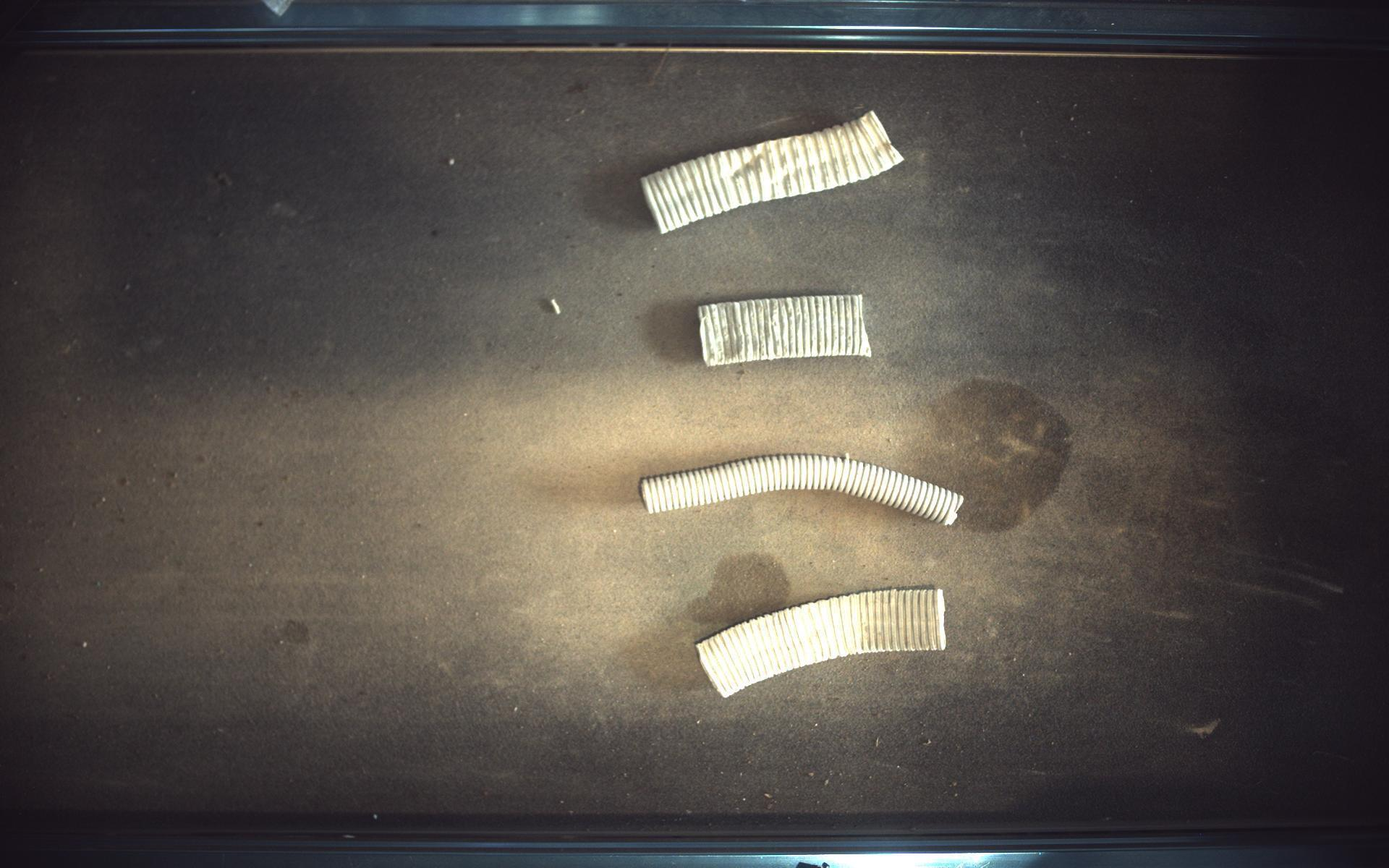pipes: (642, 110, 905, 233), (697, 590, 948, 698), (640, 454, 966, 526), (699, 295, 873, 366)
